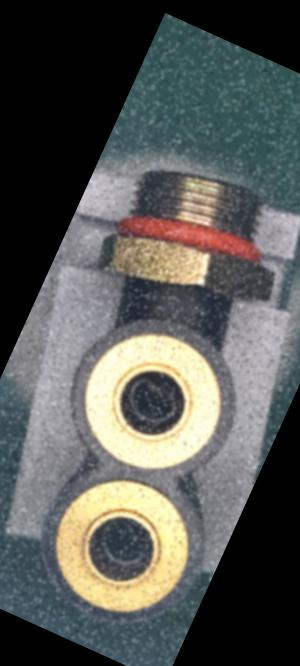off-centered: (87, 505, 162, 583), (117, 368, 191, 436)
